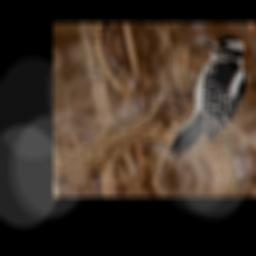Woodpecker: (146, 33, 256, 162)
